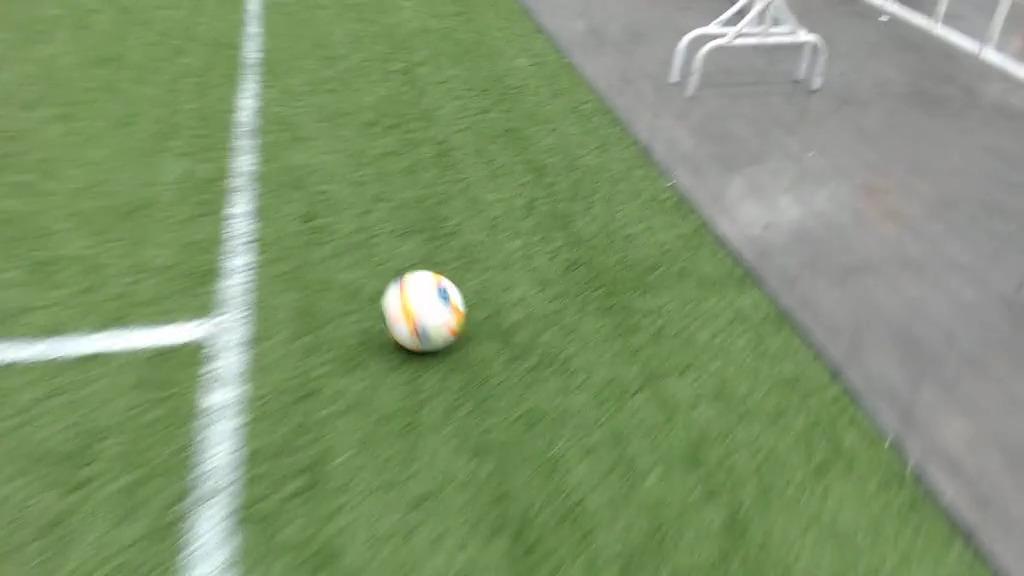ball: (382, 269, 464, 353)
